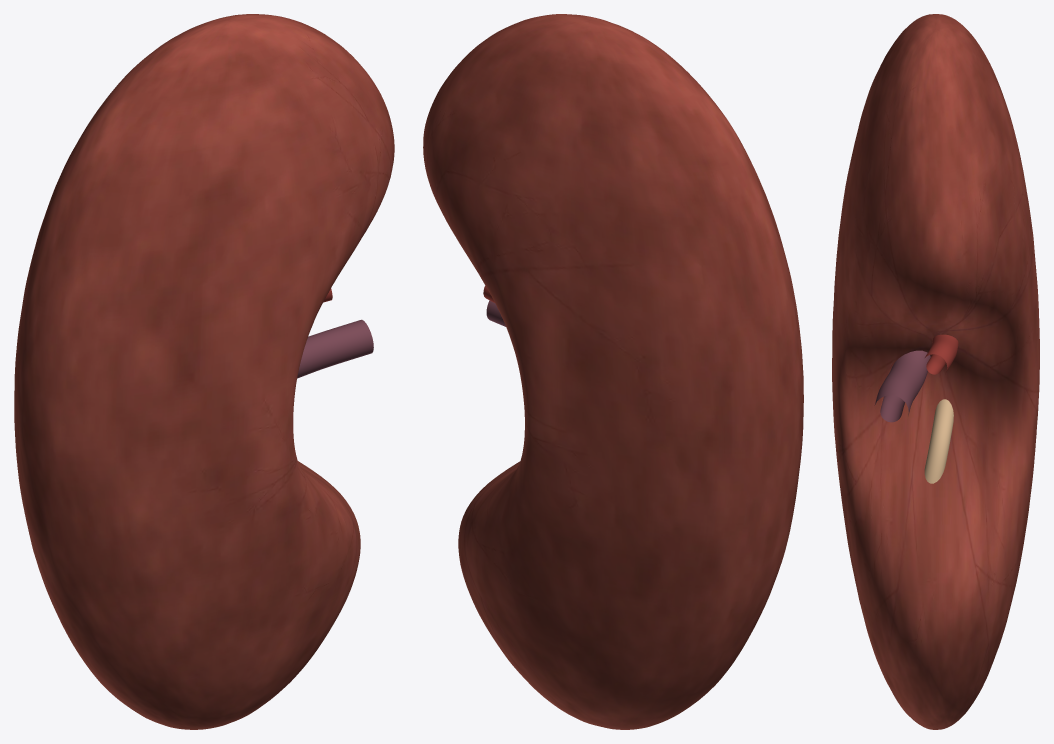
Rendered from kidney.glb.
The picture shows the model from 3 angles, left to right: view 1: azimuth 30°, elevation 25°; view 2: azimuth 150°, elevation 25°; view 3: azimuth 270°, elevation 25°; orthographic projection.
Parts seen in each view (by area): view 1: Capsula_com_hilo_medial, Veia_renal; view 2: Capsula_com_hilo_medial; view 3: Capsula_com_hilo_medial, Veia_renal, Ureter, Arteria_renal.
Part boxes in pixels (<box>): Capsula_com_hilo_medial: <box>14,14,394,729</box>; Veia_renal: <box>297,319,373,378</box>; Capsula_com_hilo_medial: <box>423,14,803,729</box>; Capsula_com_hilo_medial: <box>832,14,1039,729</box>; Veia_renal: <box>874,350,930,422</box>; Ureter: <box>924,399,953,483</box>; Arteria_renal: <box>925,334,958,374</box>.
Bounding box in the file's own units: 0.55 × 1 × 0.27.
4 materials, 1 textured.
